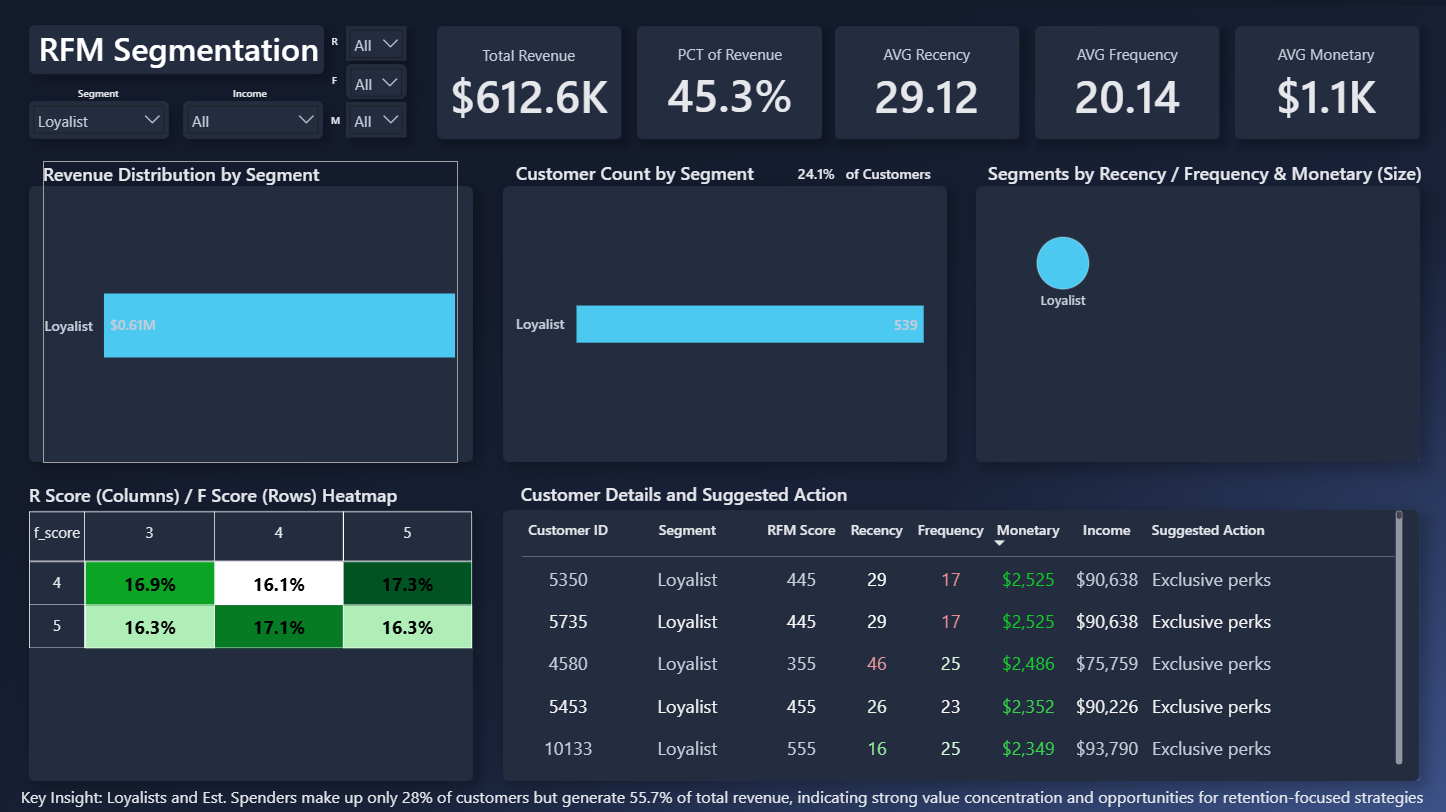

The dashboard page shown, as its layout file describes it:
{"tool":"powerbi","page":{"name":"Page 2","canvas":[1920,1080],"ordinal":0},"visuals":[{"type":"shape","box":[40.3,681.2,587.1,358.5],"z":0},{"type":"textbox","box":[40.8,40,389.7,65],"z":1000},{"type":"slicer","fields":{"Values":["data-[number redacted].rfm_segmenting"]},"box":[40.8,140.5,185,50],"z":2000},{"type":"slicer","fields":{"Values":["customer_dataset_cleaned.income_segment"]},"box":[245,140.5,185,49.9],"z":3000},{"type":"shape","box":[1292.9,253.2,587.1,365.2],"z":4000},{"type":"scatterChart","title":"Segments by Recency / Frequency & Monetary (Size)","fields":{"Y":["data-[number redacted].avg_frequency"],"X":["data-[number redacted].avg_recency"],"Size":["data-[number redacted].avg_monetary"],"Category":["data-[number redacted].rfm_segmenting"]},"box":[1308.5,218.1,574,399.8],"z":5000},{"type":"pivotTable","title":"R Score (Columns) / F Score (Rows) Heatmap","fields":{"Values":["data-[number redacted].pct_of_segment"],"Rows":["data-[number redacted].f_score"],"Columns":["data-[number redacted].r_score"]},"box":[40.8,643.4,587.6,395.8],"z":6000},{"type":"shape","box":[580.8,40.8,244,149.6],"z":7000},{"type":"cardVisual","fields":{"Data":["Sum(data-[number redacted].monetary)"]},"box":[550.1,39.2,304.8,151.8],"z":8000},{"type":"shape","box":[667.7,681.2,1212.2,358.5],"z":9000},{"type":"shape","box":[844.7,40.8,244.8,150],"z":10000},{"type":"cardVisual","fields":{"Data":["data-[number redacted].pct_of_monetary"]},"box":[826,39,283.1,151.9],"z":11000},{"type":"shape","box":[1106.9,40.3,244.2,150],"z":12000},{"type":"cardVisual","fields":{"Data":["data-[number redacted].avg_recency"]},"box":[1107.3,40.8,243.2,148],"z":13000},{"type":"tableEx","title":"Customer Details and Suggested Action","fields":{"Values":["data-[number redacted].customer_id","data-[number redacted].rfm_segmenting","Sum(data-[number redacted].rfm_score)","Sum(data-[number redacted].recency)","Sum(data-[number redacted].frequency)","Sum(data-[number redacted].monetary)","Sum(customer_dataset_cleaned.income)","data-[number redacted].suggested_action"]},"box":[685.6,643.1,1176.3,380],"z":14000},{"type":"shape","box":[1371.3,40.3,244.2,150],"z":15000},{"type":"cardVisual","fields":{"Data":["data-[number redacted].avg_frequency"]},"box":[1371.6,40.8,244.7,148],"z":16000},{"type":"shape","box":[1635.7,40.3,244.2,150],"z":17000},{"type":"cardVisual","fields":{"Data":["data-[number redacted].avg_monetary"]},"box":[1614.9,40.8,284,148],"z":18000},{"type":"shape","box":[667.7,253.2,587.1,365.2],"z":19000},{"type":"funnel","title":"Customer Count by Segment","fields":{"Category":["data-[number redacted].rfm_segmenting"],"Y":["data-[number redacted].count_customer"]},"box":[685.5,217.6,544.1,390.4],"z":20000},{"type":"shape","box":[40.3,253.2,587.1,365],"z":21000},{"type":"barChart","title":"Revenue Distribution by Segment","fields":{"Category":["data-[number redacted].rfm_segmenting"],"Y":["Sum(data-[number redacted].monetary)"]},"box":[58.9,219,549.9,400.3],"z":22000},{"type":"slicer","fields":{"Values":["data-[number redacted].r_score"]},"box":[460.6,40.6,80,46],"z":23000},{"type":"slicer","fields":{"Values":["data-[number redacted].f_score"]},"box":[460.7,91,80.1,46],"z":24000},{"type":"slicer","fields":{"Values":["data-[number redacted].m_score"]},"box":[460.4,141.8,80.2,47],"z":25000},{"type":"textbox","box":[24.6,1024,1875.4,56],"z":26000},{"type":"cardVisual","fields":{"Data":["data-[number redacted].pct_of_customers"]},"box":[1041.2,209.7,115.2,43.6],"z":27000},{"type":"textbox","box":[1115.8,217.6,139.4,39.4],"z":28000},{"type":"textbox","box":[434,47.7,22.8,32],"z":29000},{"type":"textbox","box":[434,98.8,22.8,29.9],"z":30000},{"type":"textbox","box":[434.9,151.9,23.2,29],"z":31000},{"type":"textbox","box":[106.2,119.9,53.9,17],"z":32000},{"type":"textbox","box":[310.8,120.3,46.5,16.6],"z":33000}]}

Visuals, with their boxes in screenshot pixels (x1, y1, x2, y2), scaled from the page's 1920x1080 canvas onto the 1446x812 screenshot:
shape: region(30, 512, 473, 782)
textbox: region(31, 30, 324, 79)
slicer - data-[number redacted].rfm_segmenting: region(31, 106, 170, 143)
slicer - customer_dataset_cleaned.income_segment: region(185, 106, 324, 143)
shape: region(974, 190, 1416, 465)
"Segments by Recency / Frequency & Monetary (Size)" scatterChart: region(985, 164, 1418, 465)
"R Score (Columns) / F Score (Rows) Heatmap" pivotTable: region(31, 484, 473, 781)
shape: region(437, 31, 621, 143)
cardVisual - Sum(data-[number redacted].monetary): region(414, 29, 644, 144)
shape: region(503, 512, 1416, 782)
shape: region(636, 31, 821, 143)
cardVisual - data-[number redacted].pct_of_monetary: region(622, 29, 835, 144)
shape: region(834, 30, 1018, 143)
cardVisual - data-[number redacted].avg_recency: region(834, 31, 1017, 142)
"Customer Details and Suggested Action" tableEx: region(516, 484, 1402, 769)
shape: region(1033, 30, 1217, 143)
cardVisual - data-[number redacted].avg_frequency: region(1033, 31, 1217, 142)
shape: region(1232, 30, 1416, 143)
cardVisual - data-[number redacted].avg_monetary: region(1216, 31, 1430, 142)
shape: region(503, 190, 945, 465)
"Customer Count by Segment" funnel: region(516, 164, 926, 457)
shape: region(30, 190, 473, 465)
"Revenue Distribution by Segment" barChart: region(44, 165, 459, 466)
slicer - data-[number redacted].r_score: region(347, 31, 407, 65)
slicer - data-[number redacted].f_score: region(347, 68, 407, 103)
slicer - data-[number redacted].m_score: region(347, 107, 407, 142)
textbox: region(19, 770, 1431, 811)
cardVisual - data-[number redacted].pct_of_customers: region(784, 158, 871, 190)
textbox: region(840, 164, 945, 193)
textbox: region(327, 36, 344, 60)
textbox: region(327, 74, 344, 97)
textbox: region(328, 114, 345, 136)
textbox: region(80, 90, 121, 103)
textbox: region(234, 90, 269, 103)
